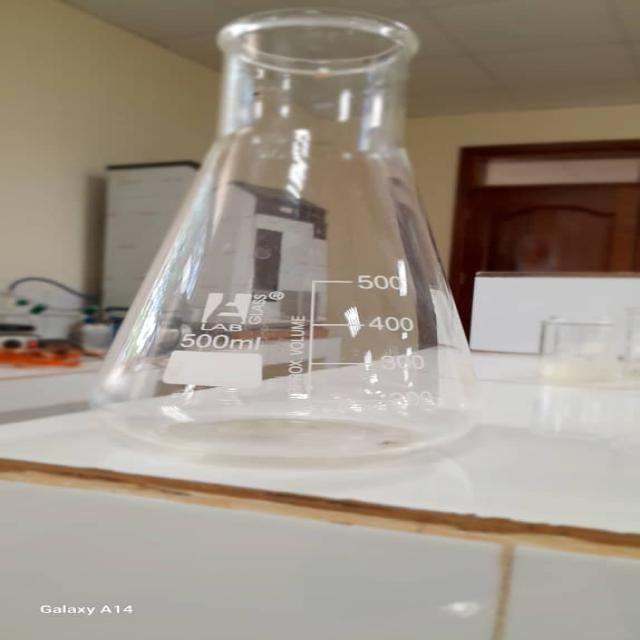Conical Flask: (93, 6, 512, 452)
